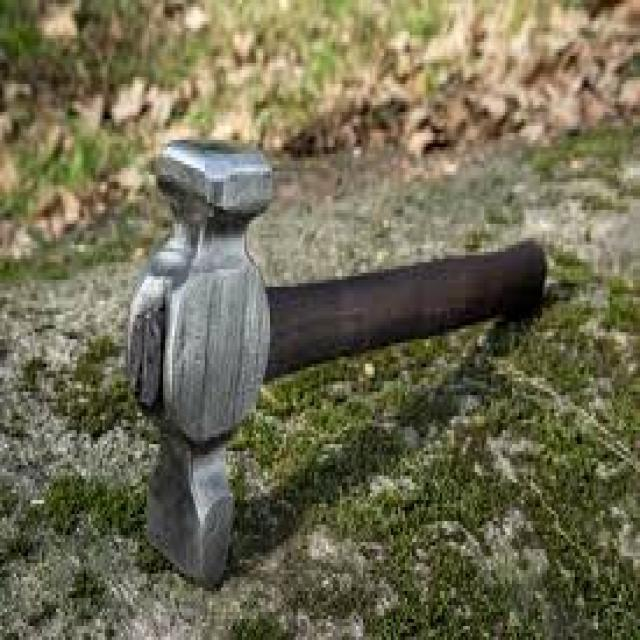hammer: (120, 131, 553, 593)
